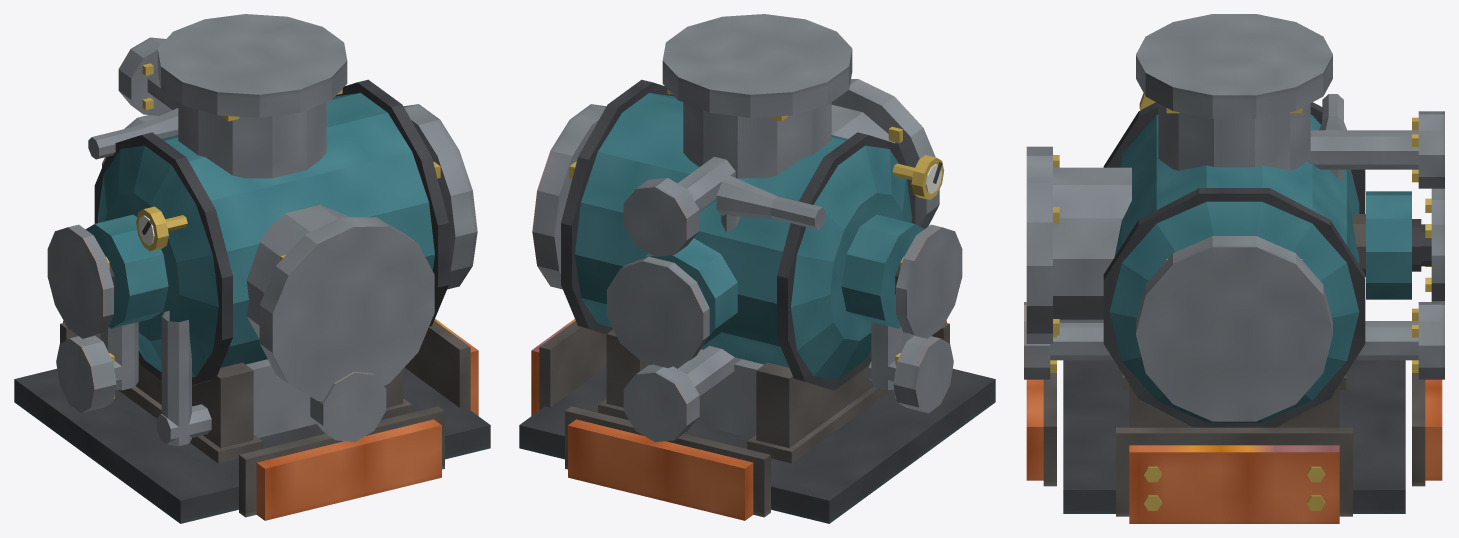
Rendered from plantcondenser.obj.
The picture shows the model from 3 angles, left to right: view 1: azimuth 30°, elevation 25°; view 2: azimuth 150°, elevation 25°; view 3: azimuth 270°, elevation 25°; orthographic projection. The views are drawn at different scales.
Parts seen in each view (by area): view 1: main, drive_front; view 2: main, drive_left, drive_front; view 3: main, drive_left.
Part boxes in pixels (x1,y1,x2,y2): main: (14, 14, 490, 523); drive_front: (47, 224, 113, 338); main: (519, 14, 995, 523); drive_left: (607, 256, 709, 367); drive_front: (896, 224, 962, 338); main: (1024, 14, 1444, 523); drive_left: (1421, 188, 1444, 303).
Bounding box in the file's own units: 1 × 1 × 1.
1 material, 1 textured.
